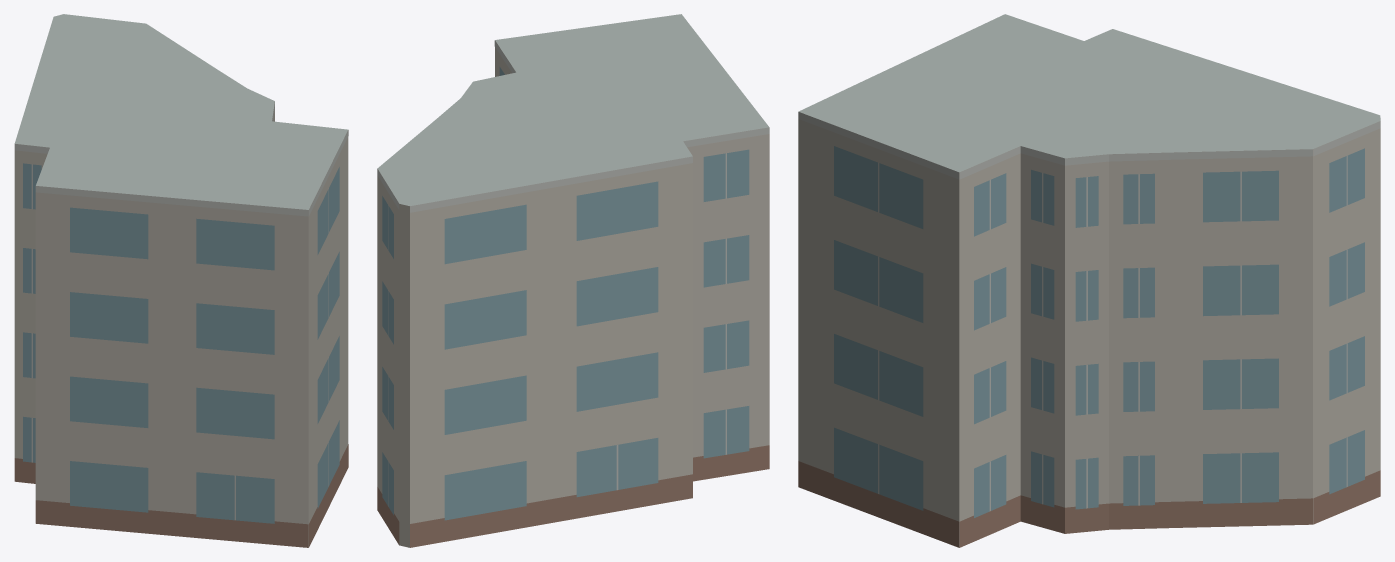
The model's file is survey-upis-32647523.glb.
The picture shows the model from 3 angles, left to right: view 1: azimuth 30°, elevation 25°; view 2: azimuth 150°, elevation 25°; view 3: azimuth 270°, elevation 25°; orthographic projection. The views are drawn at different scales.
Parts seen in each view (by area): view 1: survey-upis-32647523.tmp; view 2: survey-upis-32647523.tmp; view 3: survey-upis-32647523.tmp.
Part boxes in pixels (x1,y1,x2,y2): survey-upis-32647523.tmp: [14, 14, 348, 547]; survey-upis-32647523.tmp: [377, 14, 769, 547]; survey-upis-32647523.tmp: [798, 14, 1380, 547].
Size of the model in its own units: 11.36 by 12.55 by 17.65.
